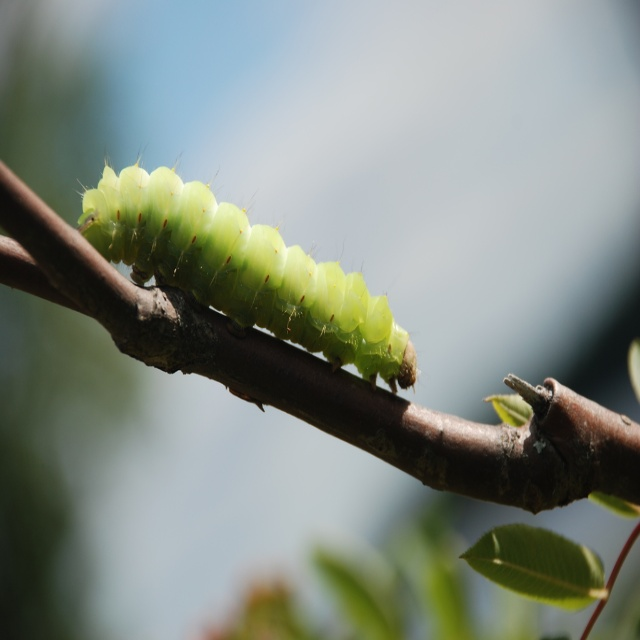Caterpillar: (78, 149, 421, 393)
